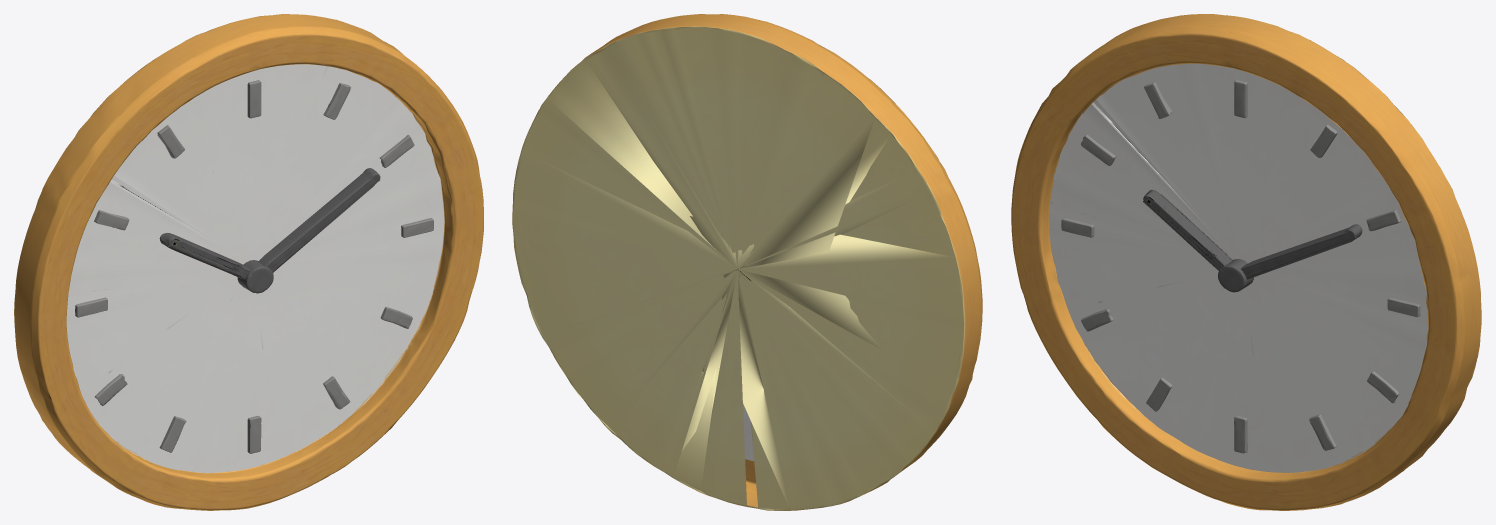
The model's file is WallClock.glb.
The picture shows the model from 3 angles, left to right: view 1: azimuth 30°, elevation 25°; view 2: azimuth 150°, elevation 25°; view 3: azimuth 330°, elevation 25°; orthographic projection.
Visible parts, largest first — view 1: geometry_0; view 2: geometry_0; view 3: geometry_0.
Boxes of the visible parts, bbox=[...] form: geometry_0: bbox=[14, 14, 483, 510]; geometry_0: bbox=[512, 14, 982, 510]; geometry_0: bbox=[1011, 14, 1481, 510].
Size of the model in its own units: 0.9497 by 0.9507 by 0.0855.
Materials: 1 (1 with a texture image).
